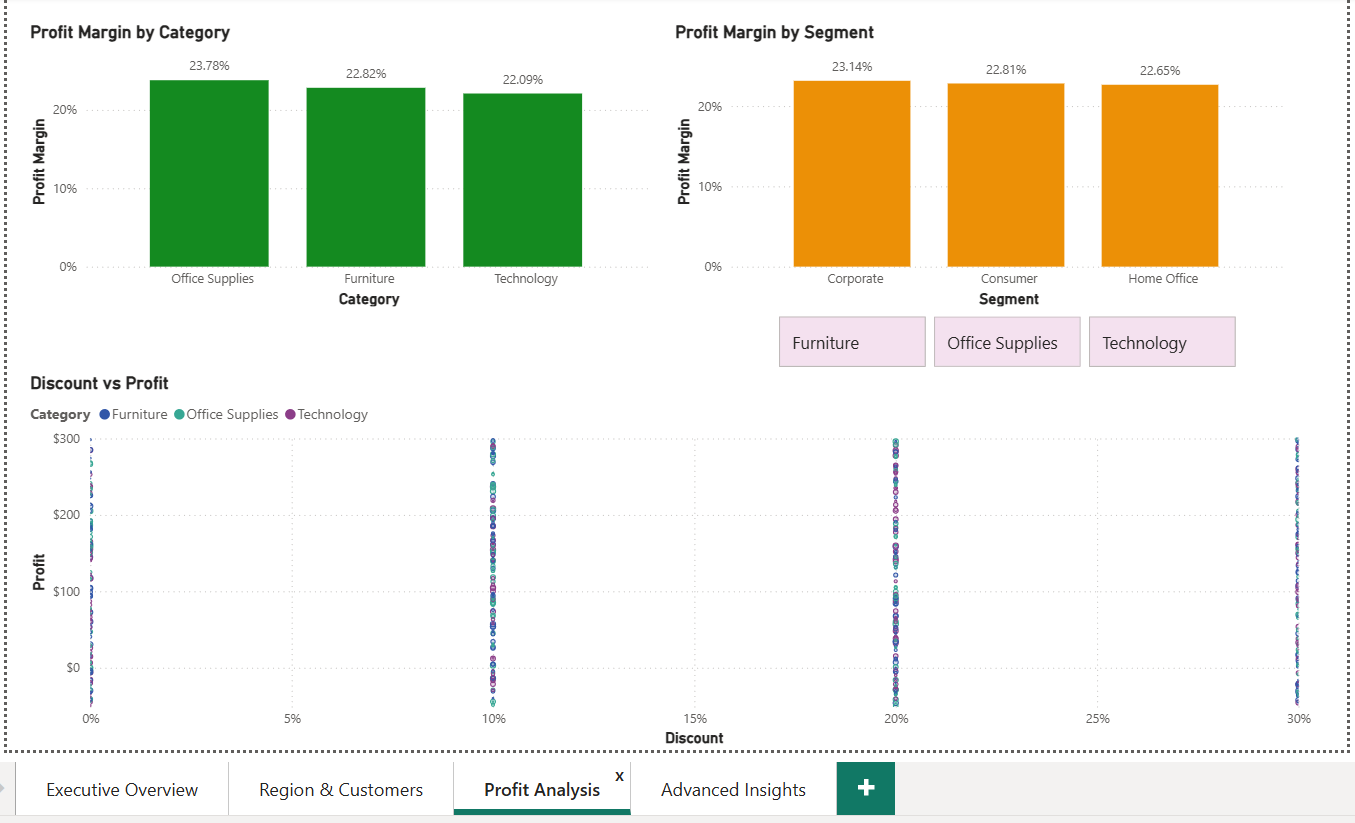

This screenshot's page, from the dashboard's own definition file:
{"tool":"powerbi","page":{"name":"Profit Analysis","canvas":[1280,720],"ordinal":2},"visuals":[{"type":"clusteredColumnChart","title":"Profit Margin by Category","fields":{"Category":["Cleaned_Sales.Category"],"Y":["Measures_Tbl.Profit Margin"]},"box":[17.5,23.9,602.8,276.8],"z":0},{"type":"clusteredColumnChart","fields":{"Category":["Cleaned_Sales.Segment"],"Y":["Measures_Tbl.Profit Margin"]},"box":[633.1,23.9,593.3,276.8],"z":1000},{"type":"scatterChart","title":"Discount vs Profit","fields":{"X":["Cleaned_Sales.Discount"],"Series":["Cleaned_Sales.Category"],"Size":["Sum(Cleaned_Sales.Sales)"],"Y":["Cleaned_Sales.Profit"]},"box":[17.5,359.5,1232.7,361.1],"z":2000},{"type":"advancedSlicerVisual","fields":{"Values":["Cleaned_Sales.Category"]},"box":[731.7,300.6,448.6,58.9],"z":3000}]}

Visuals, with their boxes on the page's 1280x720 design canvas (x1, y1, x2, y2). These are canvas units, not pixel positions in the 1355x823 screenshot, which may show the page scaled, cropped or inside an application window:
"Profit Margin by Category" clusteredColumnChart: pyautogui.locateOnScreen(18, 24, 620, 301)
clusteredColumnChart - Cleaned_Sales.Segment x Measures_Tbl.Profit Margin: pyautogui.locateOnScreen(633, 24, 1226, 301)
"Discount vs Profit" scatterChart: pyautogui.locateOnScreen(18, 360, 1250, 721)
advancedSlicerVisual - Cleaned_Sales.Category: pyautogui.locateOnScreen(732, 301, 1180, 360)
